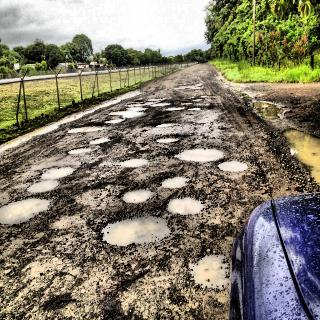pothole: (99, 208, 172, 255), (190, 236, 232, 296), (106, 90, 182, 116), (0, 197, 55, 232), (25, 160, 77, 196), (170, 147, 226, 165), (164, 197, 207, 218), (216, 157, 250, 176), (123, 186, 155, 206), (159, 176, 193, 194), (120, 156, 149, 172), (66, 122, 109, 132), (181, 98, 203, 116), (152, 118, 180, 131), (152, 135, 185, 145), (166, 112, 191, 114)
